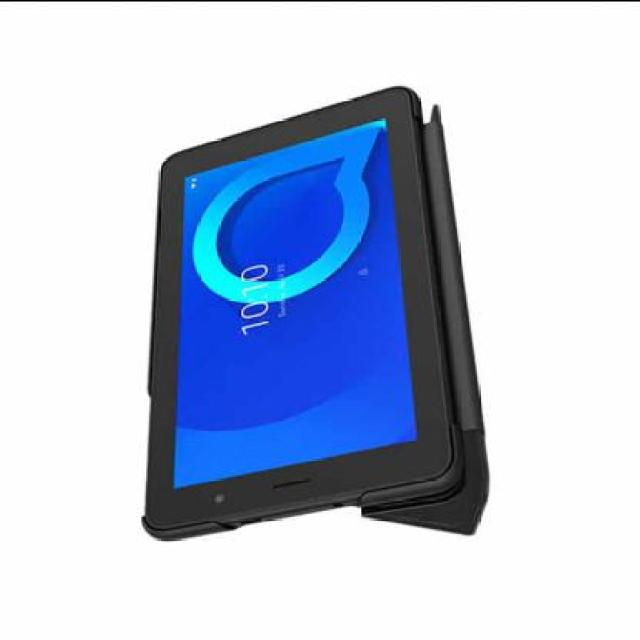tablet: (117, 30, 476, 576)
